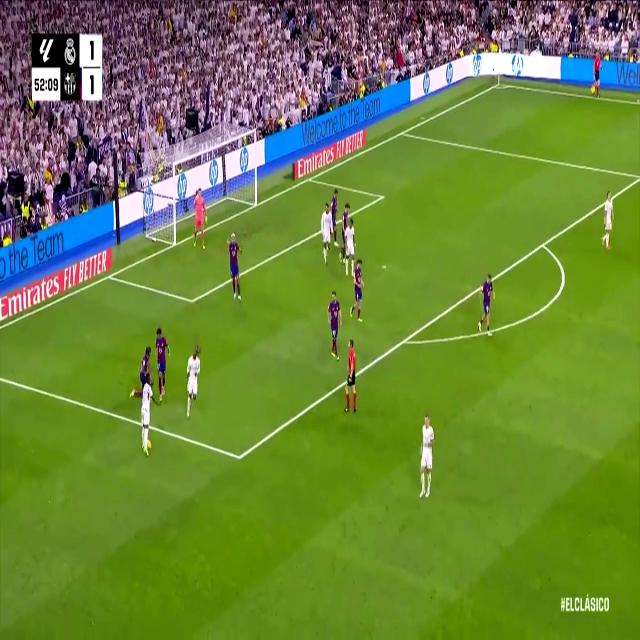bigarea_bottom_inner: (233, 442, 245, 472)
bigarea_top_inner: (636, 168, 640, 187)
bigarea_top_outter: (398, 124, 407, 140)
bottom_arc_area_intersection: (398, 327, 412, 353)
corner: (494, 78, 504, 89)
smallarea_bottom_inner: (188, 288, 197, 312)
smallarea_top_inner: (378, 188, 386, 206)
top_arc_area_intersection: (538, 233, 548, 254)
